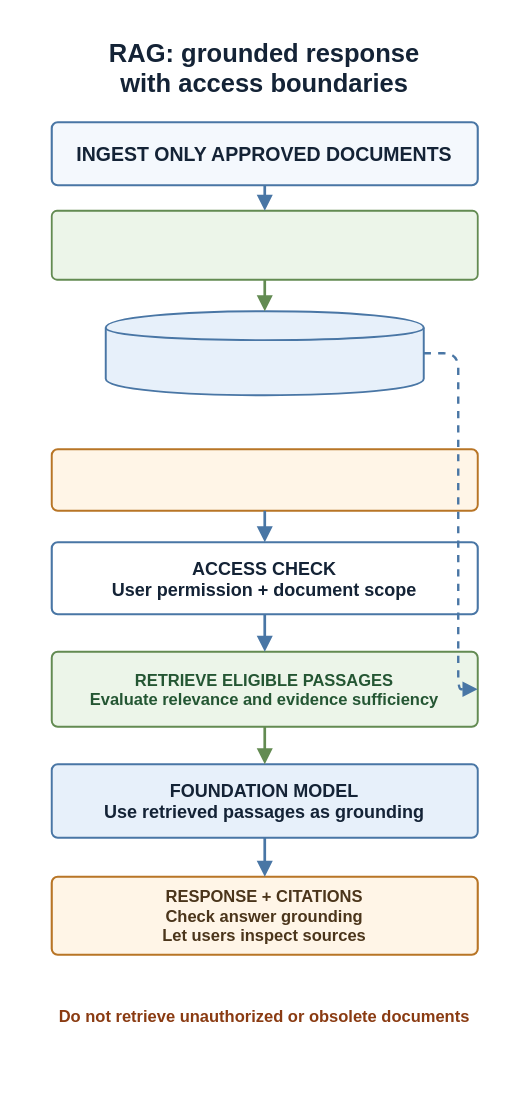
The diagram is 530 pixels wide and 1106 high, and some of its shapes have lost their labels. Each missing label, with the box of its shape:
Owner · publication scope · freshness Deletion rule · chunking method: (50, 209, 478, 280)
USER QUESTION: (50, 448, 478, 511)
VECTOR INDEX Approved, current document passages: (104, 310, 424, 396)
